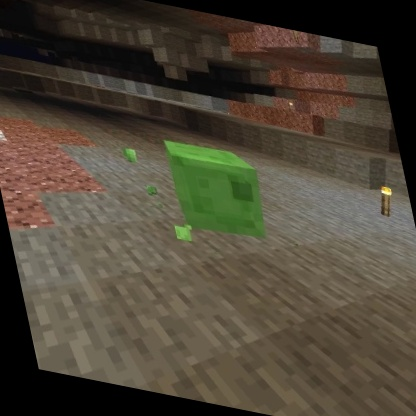slime: (159, 133, 276, 248)
